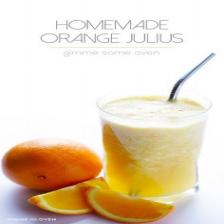orange: (28, 178, 175, 223), (2, 139, 103, 191)
